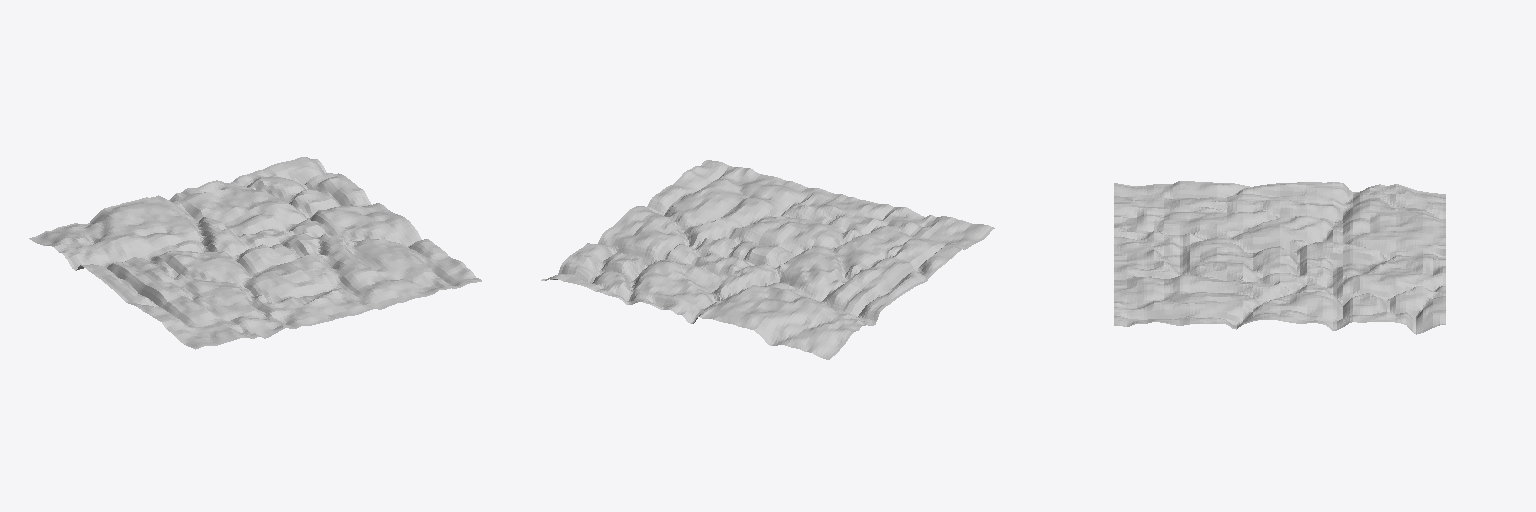
Rendered from stones_detail.obj.
3 renders of one model, left to right at view 1: azimuth 30°, elevation 25°; view 2: azimuth 150°, elevation 25°; view 3: azimuth 270°, elevation 25°, orthographic.
Size of the model in its own units: 6 by 0.33 by 6.